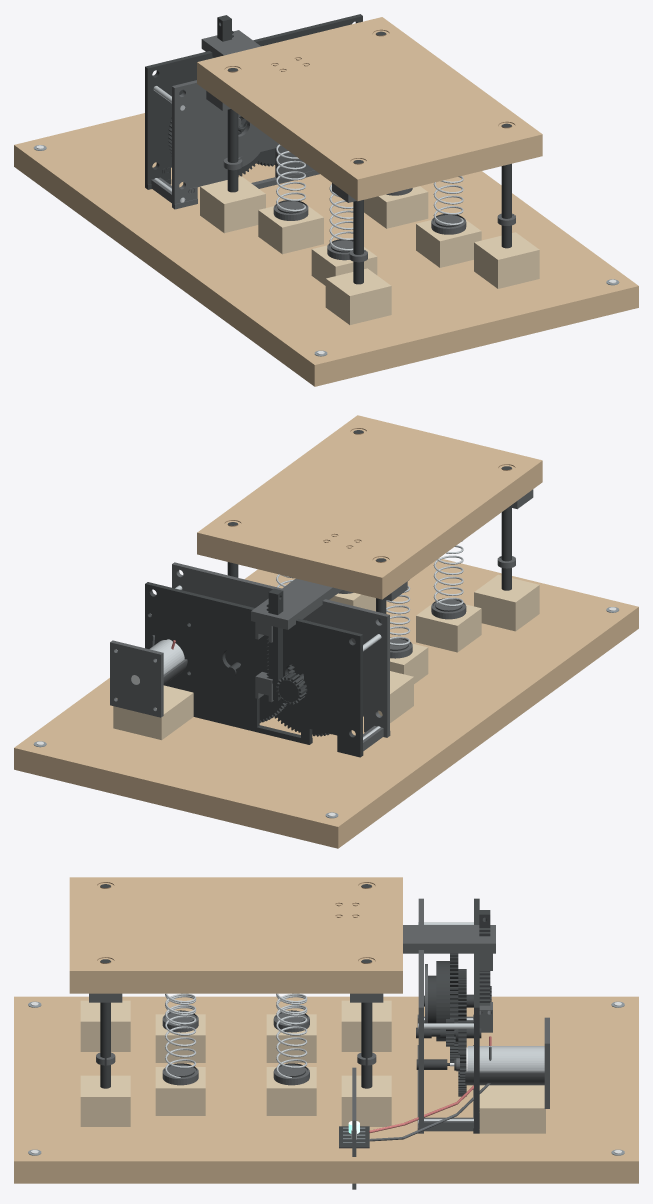
File: step-power-generator-ar-20.glb
3 views of the same model, one above another, from view 1: azimuth 30°, elevation 25°; view 2: azimuth 150°, elevation 25°; view 3: azimuth 270°, elevation 25° (orthographic). The views are drawn at different scales.
Parts seen in each view (by area): view 1: W1 fixed wooden base 280x450x18, W2 moving wooden pedal 160x240x18, Printed two-hole gearbox cheek, Printed three-hole gearbox cheek, W3 guide timber block 2, W3 guide timber block 4, W3 guide timber block 1, W4 spring riser 1, W4 spring riser 4, W4 spring riser 3, W4 spring riser 2, Printed rack-to-pedal bridge (+8 smaller); view 2: W1 fixed wooden base 280x450x18, W2 moving wooden pedal 160x240x18, Printed three-hole gearbox cheek, Printed two-hole gearbox cheek, Printed motor cradle, W3 guide timber block 2, Motor support timber block 42x20x48, W4 spring riser 2, Printed rack-to-pedal bridge, Actual printed rack strip, W3 guide timber block 1, W4 spring riser 1 (+6 smaller); view 3: W1 fixed wooden base 280x450x18, W2 moving wooden pedal 160x240x18, Motor support timber block 42x20x48, Printed rack-to-pedal bridge, W3 guide timber block 4, W3 guide timber block 3, W3 guide timber block 1, W3 guide timber block 2, W4 spring riser 4, W4 spring riser 3, Metal DC motor body, Printed 90T clutch gear (+17 smaller).
Boxes of the visible parts, x1=… form: W1 fixed wooden base 280x450x18: x1=14, y1=113, x2=638, y2=386; W2 moving wooden pedal 160x240x18: x1=197, y1=17, x2=542, y2=201; Printed two-hole gearbox cheek: x1=172, y1=80, x2=319, y2=209; Printed three-hole gearbox cheek: x1=145, y1=14, x2=362, y2=189; W3 guide timber block 2: x1=325, y1=268, x2=391, y2=324; W3 guide timber block 4: x1=474, y1=232, x2=539, y2=288; W3 guide timber block 1: x1=200, y1=176, x2=265, y2=233; W4 spring riser 1: x1=258, y1=200, x2=323, y2=254; W4 spring riser 4: x1=416, y1=214, x2=481, y2=267; W4 spring riser 3: x1=364, y1=186, x2=428, y2=228; W4 spring riser 2: x1=311, y1=245, x2=377, y2=285; Printed rack-to-pedal bridge: x1=201, y1=30, x2=260, y2=57; W1 fixed wooden base 280x450x18: x1=14, y1=558, x2=638, y2=848; W2 moving wooden pedal 160x240x18: x1=197, y1=415, x2=542, y2=599; Printed three-hole gearbox cheek: x1=145, y1=582, x2=363, y2=757; Printed two-hole gearbox cheek: x1=172, y1=562, x2=390, y2=737; Printed motor cradle: x1=110, y1=640, x2=187, y2=717; W3 guide timber block 2: x1=474, y1=574, x2=539, y2=631; Motor support timber block 42x20x48: x1=113, y1=685, x2=193, y2=740; W4 spring riser 2: x1=416, y1=598, x2=481, y2=652; Printed rack-to-pedal bridge: x1=251, y1=578, x2=342, y2=629; Actual printed rack strip: x1=266, y1=588, x2=283, y2=701; W3 guide timber block 1: x1=363, y1=671, x2=413, y2=722; W4 spring riser 1: x1=390, y1=643, x2=428, y2=683; W1 fixed wooden base 280x450x18: x1=14, y1=996, x2=638, y2=1183; W2 moving wooden pedal 160x240x18: x1=69, y1=877, x2=402, y2=993; Motor support timber block 42x20x48: x1=479, y1=1085, x2=545, y2=1133; Printed rack-to-pedal bridge: x1=403, y1=925, x2=495, y2=953; W3 guide timber block 4: x1=80, y1=1075, x2=130, y2=1126; W3 guide timber block 3: x1=341, y1=1075, x2=391, y2=1126; W3 guide timber block 1: x1=341, y1=1000, x2=391, y2=1051; W3 guide timber block 2: x1=80, y1=1000, x2=130, y2=1051; W4 spring riser 4: x1=155, y1=1067, x2=205, y2=1115; W4 spring riser 3: x1=266, y1=1067, x2=316, y2=1115; Metal DC motor body: x1=468, y1=1046, x2=544, y2=1071; Printed 90T clutch gear: x1=436, y1=953, x2=458, y2=1062.
Bounding box in the file's own units: 0.28 × 0.1537 × 0.45.
